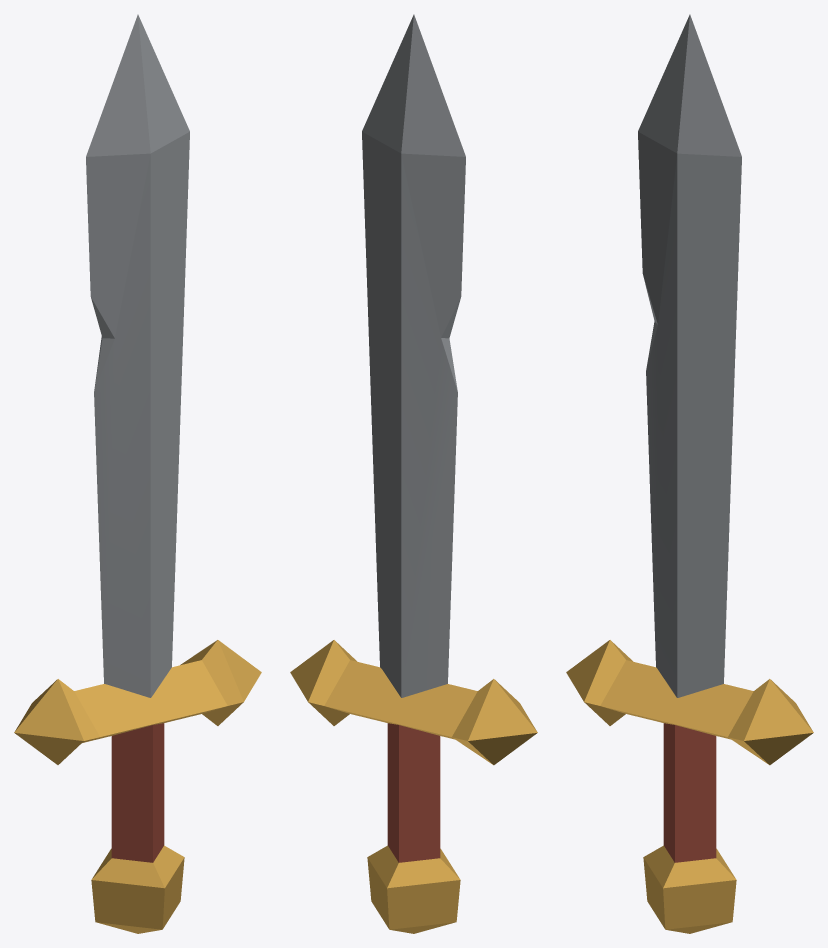
The model's file is sword.glb.
3 views of the same model, side by side, from view 1: azimuth 30°, elevation 25°; view 2: azimuth 150°, elevation 25°; view 3: azimuth 330°, elevation 25° (orthographic).
Parts seen in each view (by area): view 1: Prop_Sword_01; view 2: Prop_Sword_01; view 3: Prop_Sword_01.
Part boxes in pixels (bbox=[...]): Prop_Sword_01: bbox=[14, 14, 261, 933]; Prop_Sword_01: bbox=[290, 14, 537, 933]; Prop_Sword_01: bbox=[566, 14, 813, 933].
Bounding box in the file's own units: 0.4294 × 1.52 × 0.1617.
1 material, 1 textured.
